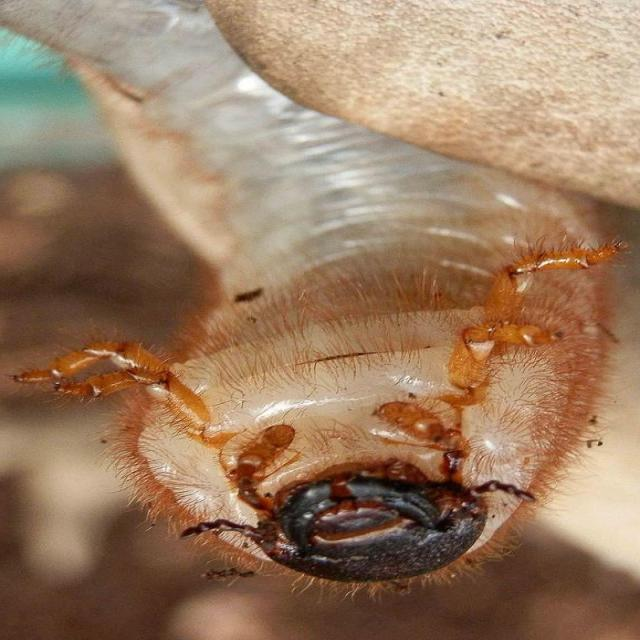grub: (1, 1, 602, 587)
